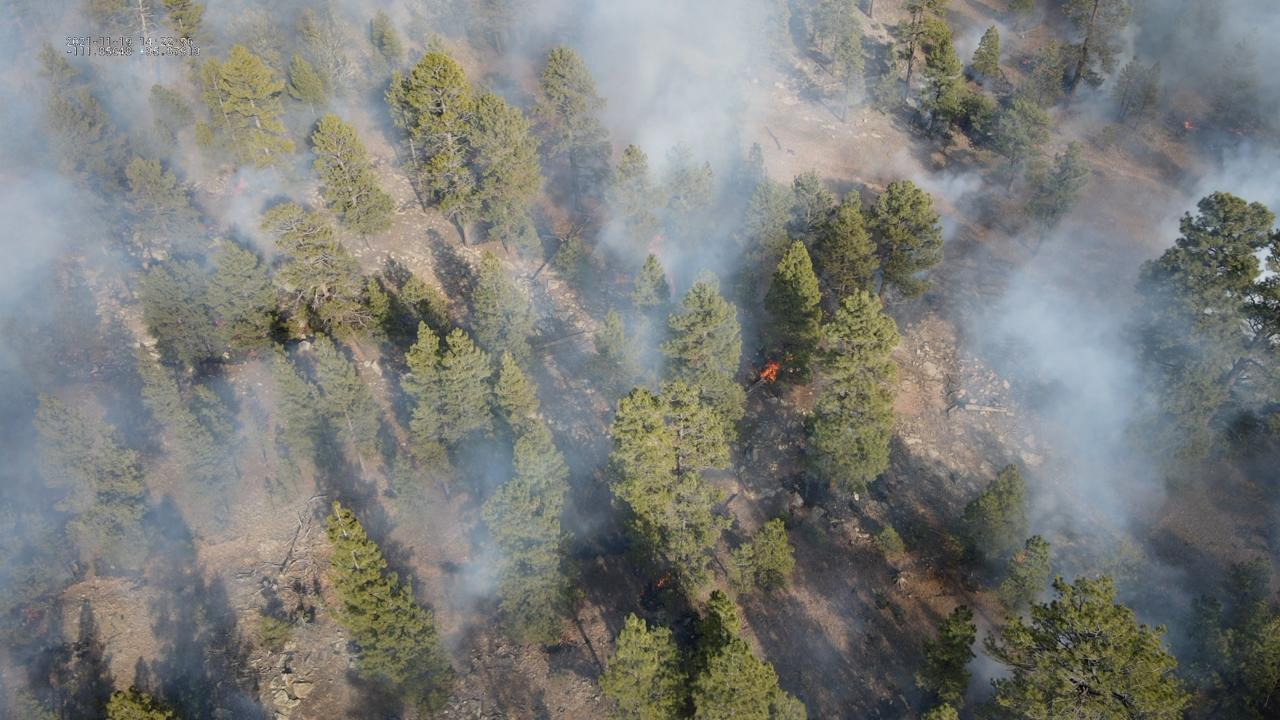fire: (647, 230, 667, 262), (760, 358, 781, 385), (19, 603, 42, 626), (668, 271, 678, 302), (231, 178, 248, 195), (655, 576, 667, 589), (1013, 550, 1027, 561), (1184, 118, 1191, 130)
smoke: (0, 0, 1280, 720)
